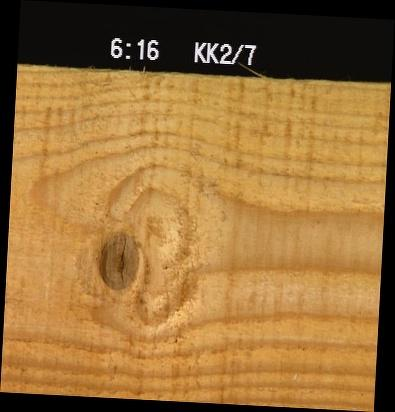sound_knot: (95, 229, 140, 292)
